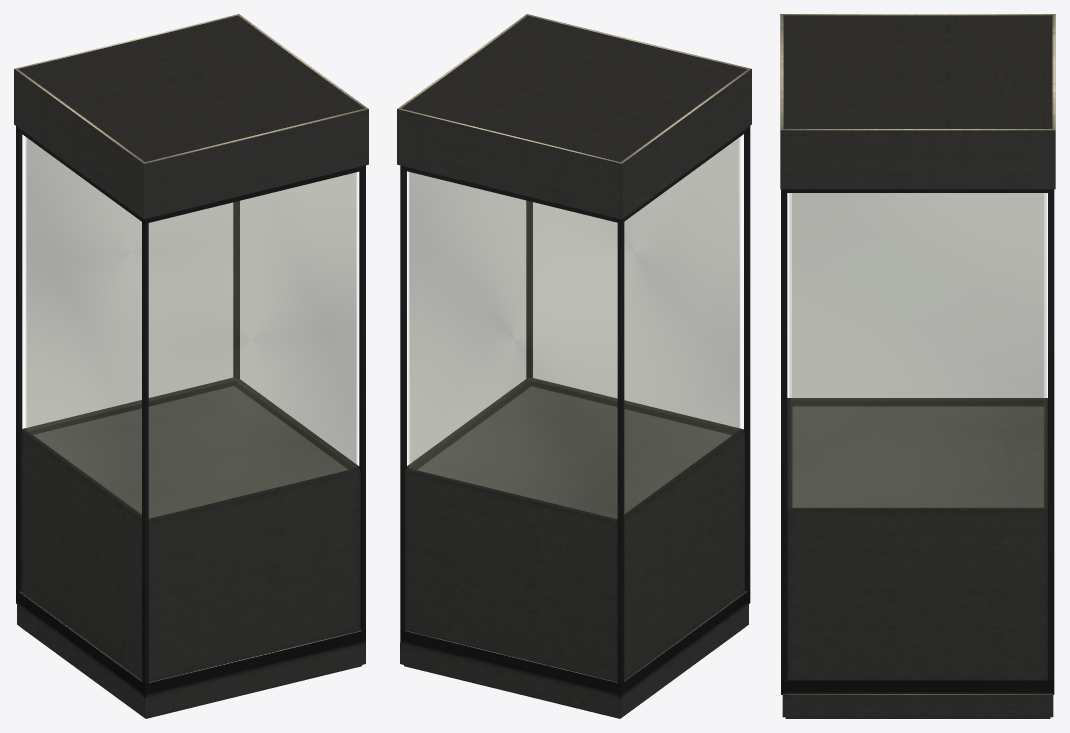
The model's file is VerticalDisplayCaseV2.fbx.
The picture shows the model from 3 angles, left to right: view 1: azimuth 30°, elevation 25°; view 2: azimuth 150°, elevation 25°; view 3: azimuth 270°, elevation 25°; orthographic projection. The views are drawn at different scales.
Parts seen in each view (by area): view 1: Glass, FeltWoodCase, WoodCase; view 2: Glass, FeltWoodCase, WoodCase; view 3: Glass, FeltWoodCase, WoodCase.
Part boxes in pixels (<box>): Glass: <box>26,137,356,518</box>; FeltWoodCase: <box>21,377,360,681</box>; WoodCase: <box>14,14,368,718</box>; Glass: <box>409,137,739,518</box>; FeltWoodCase: <box>405,378,744,681</box>; WoodCase: <box>397,14,751,718</box>; Glass: <box>789,193,1046,507</box>; FeltWoodCase: <box>787,398,1047,679</box>; WoodCase: <box>780,14,1055,718</box>.
Size of the model in its own units: 495 by 1172 by 495.
